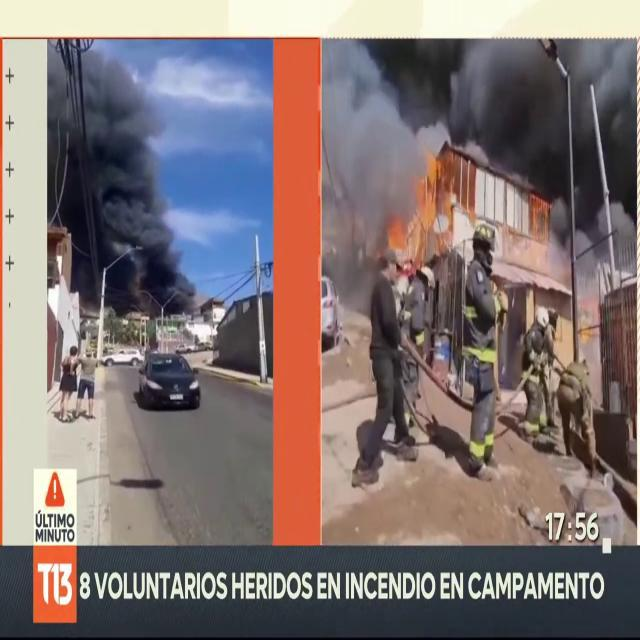Fire: (388, 150, 450, 269)
Smoke: (324, 36, 638, 225), (48, 42, 198, 306), (324, 39, 422, 427)
